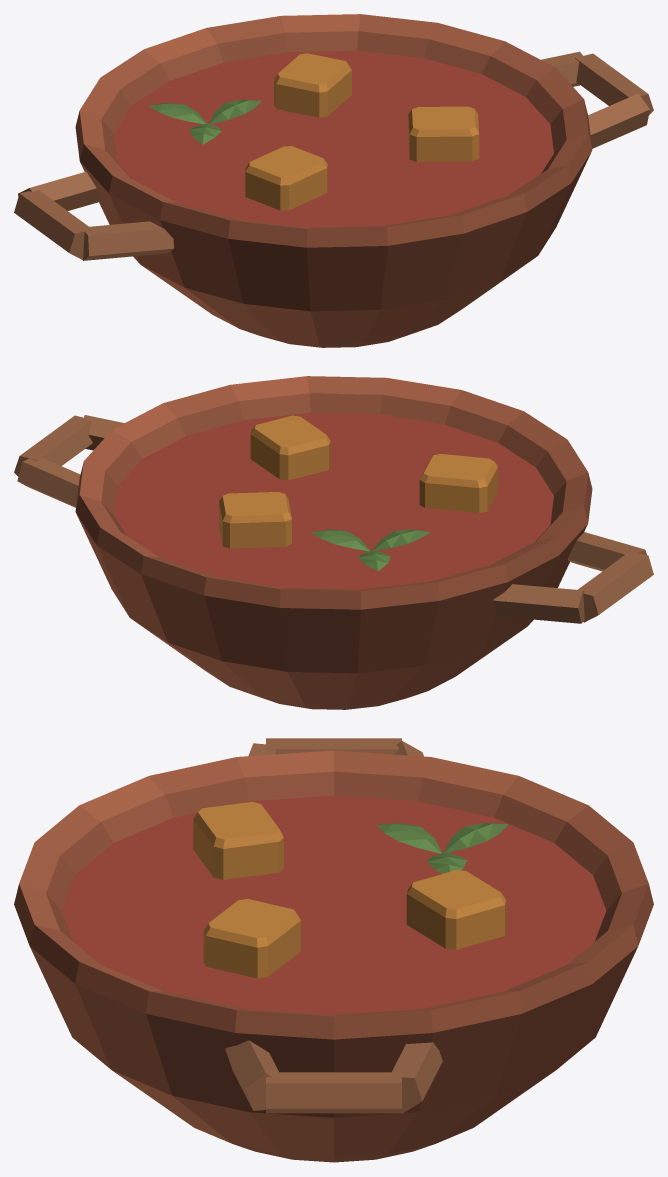
The model's file is stew_tomato.glb.
The picture shows the model from 3 angles, top to bottom: view 1: azimuth 30°, elevation 25°; view 2: azimuth 150°, elevation 25°; view 3: azimuth 270°, elevation 25°; orthographic projection. The views are drawn at different scales.
Parts seen in each view (by area): view 1: food; view 2: food; view 3: food.
Part boxes in pixels (<box>): food: <box>14,14,653,347</box>; food: <box>14,376,653,709</box>; food: <box>14,738,653,1162</box>.
Size of the model in its own units: 0.6104 by 0.189 by 0.47.
